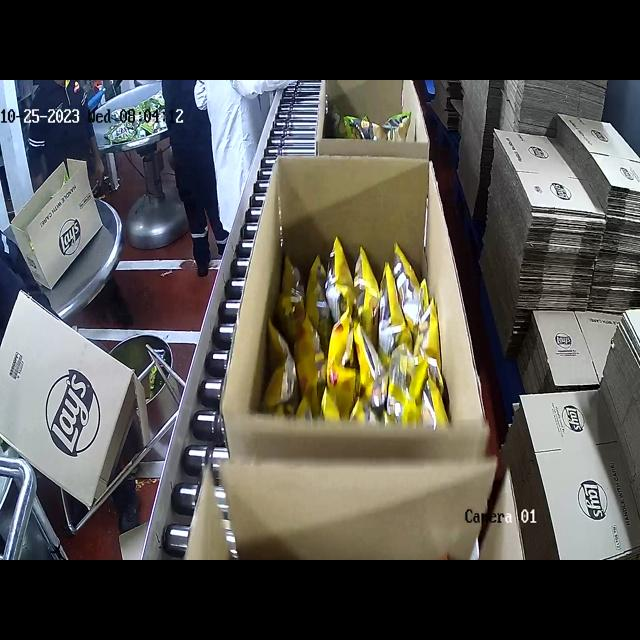salted: (279, 239, 433, 442)
yogurt: (335, 104, 407, 140)
